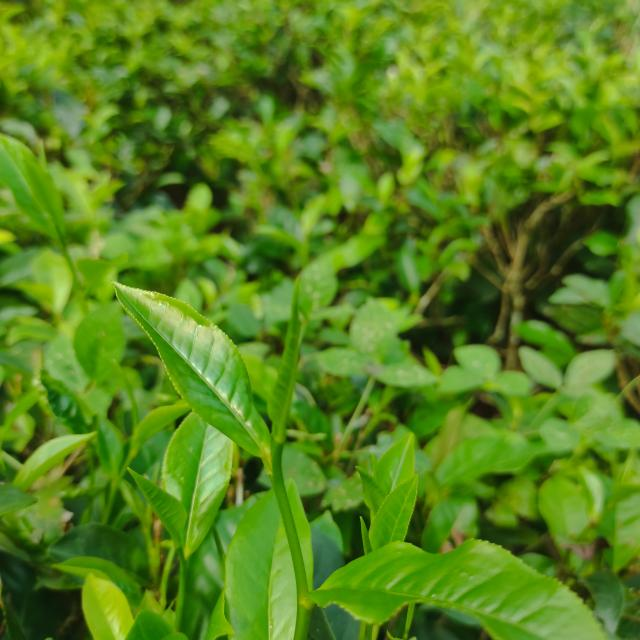unopened_leaf: (256, 267, 312, 455), (354, 510, 379, 562), (366, 446, 386, 491)
